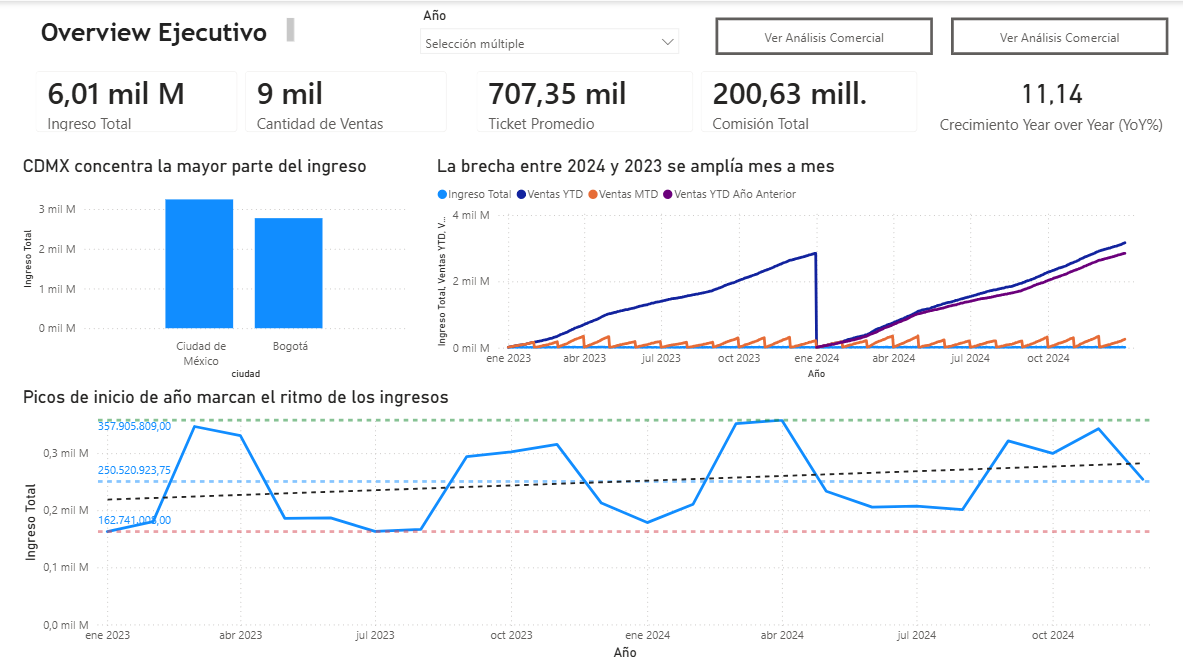

Layout of this report page (visuals, bound fields, positions):
{"tool":"powerbi","page":{"name":"Overview Ejecutivo","canvas":[1280,720],"ordinal":0},"visuals":[{"type":"cardVisual","fields":{"Data":["hecho_ventas_propiedades.Ingreso Total","hecho_ventas_propiedades.Cantidad de Ventas"]},"box":[20.5,57.9,478.3,100],"z":0},{"type":"lineChart","title":"Picos de inicio de año marcan el ritmo de los ingresos","fields":{"Y":["hecho_ventas_propiedades.Ingreso Total"],"Category":["dim_Fecha.Date.Variación.Jerarquía de fechas.Año","dim_Fecha.Date.Variación.Jerarquía de fechas.Mes"]},"box":[19.4,416.1,1241.9,299.6],"z":1000},{"type":"clusteredColumnChart","title":"CDMX concentra la mayor parte del ingreso","fields":{"Y":["hecho_ventas_propiedades.Ingreso Total"],"Category":["hecho_ventas_propiedades.ciudad"]},"box":[19.4,166.3,424.2,246.1],"z":2000},{"type":"cardVisual","fields":{"Data":["hecho_ventas_propiedades.Ticket Promedio","hecho_ventas_propiedades.Comisión Total"]},"box":[497.1,57.9,510,100],"z":3000},{"type":"card","fields":{"Values":["hecho_ventas_propiedades.YoY %"]},"box":[1007.1,57.9,255,100],"z":4000},{"type":"lineChart","title":"La brecha entre 2024 y 2023 se amplía mes a mes","fields":{"Y":["hecho_ventas_propiedades.Ingreso Total","hecho_ventas_propiedades.Ventas YTD","hecho_ventas_propiedades.Ventas MTD","hecho_ventas_propiedades.Ventas YTD Año Anterior"],"Category":["dim_Fecha.Date.Variación.Jerarquía de fechas.Año","dim_Fecha.Date.Variación.Jerarquía de fechas.Trimestre","dim_Fecha.Date.Variación.Jerarquía de fechas.Mes","dim_Fecha.Date.Variación.Jerarquía de fechas.Día"]},"box":[466.3,166.3,775.6,246.1],"z":5000},{"type":"textbox","box":[38.9,13,283.4,45.3],"z":6000},{"type":"slicer","fields":{"Values":["dim_Fecha.Año"]},"box":[443.7,1.6,299.6,66.4],"z":7000},{"type":"actionButton","box":[1026.6,17.8,234.8,40.5],"z":8000},{"type":"actionButton","box":[772.4,17.8,234.8,40.5],"z":9000}]}

Visuals, with their boxes in screenshot pixels (x1, y1, x2, y2), scaled from the page's 1280x720 canvas onto the 1183x667 screenshot:
cardVisual - hecho_ventas_propiedades.Ingreso Total x hecho_ventas_propiedades.Cantidad de Ventas: box(19, 54, 461, 146)
"Picos de inicio de año marcan el ritmo de los ingresos" lineChart: box(18, 385, 1166, 663)
"CDMX concentra la mayor parte del ingreso" clusteredColumnChart: box(18, 154, 410, 382)
cardVisual - hecho_ventas_propiedades.Ticket Promedio x hecho_ventas_propiedades.Comisión Total: box(459, 54, 931, 146)
card - hecho_ventas_propiedades.YoY %: box(931, 54, 1166, 146)
"La brecha entre 2024 y 2023 se amplía mes a mes" lineChart: box(431, 154, 1148, 382)
textbox: box(36, 12, 298, 54)
slicer - dim_Fecha.Año: box(410, 1, 687, 63)
actionButton: box(949, 16, 1166, 54)
actionButton: box(714, 16, 931, 54)
